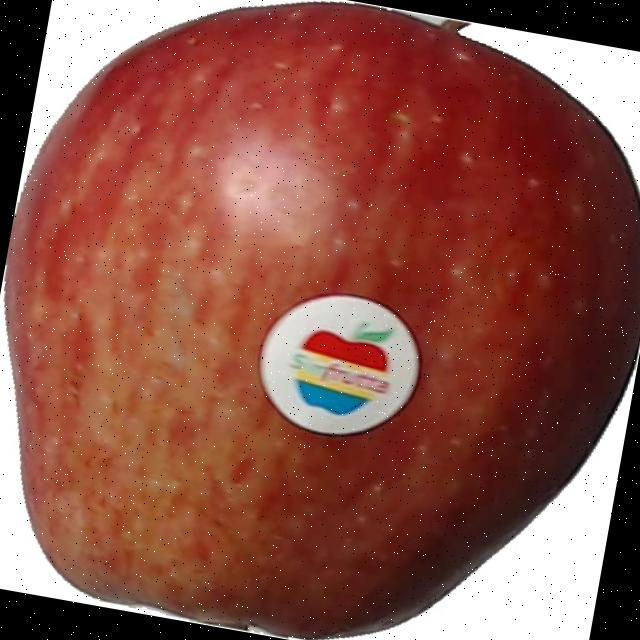apple: (13, 4, 640, 638)
